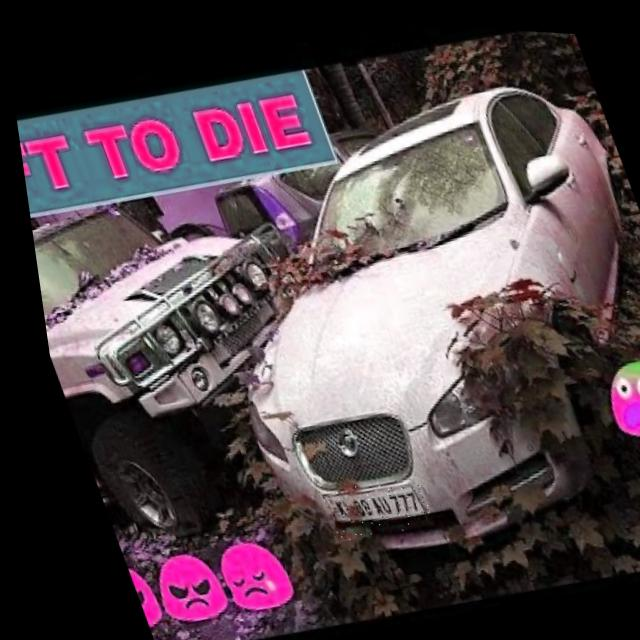license_plate: (301, 466, 422, 543)
